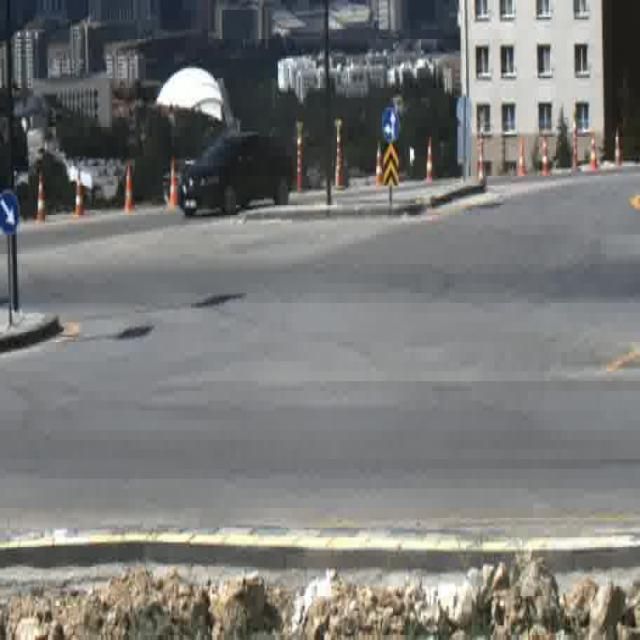Car: (178, 129, 294, 215)
